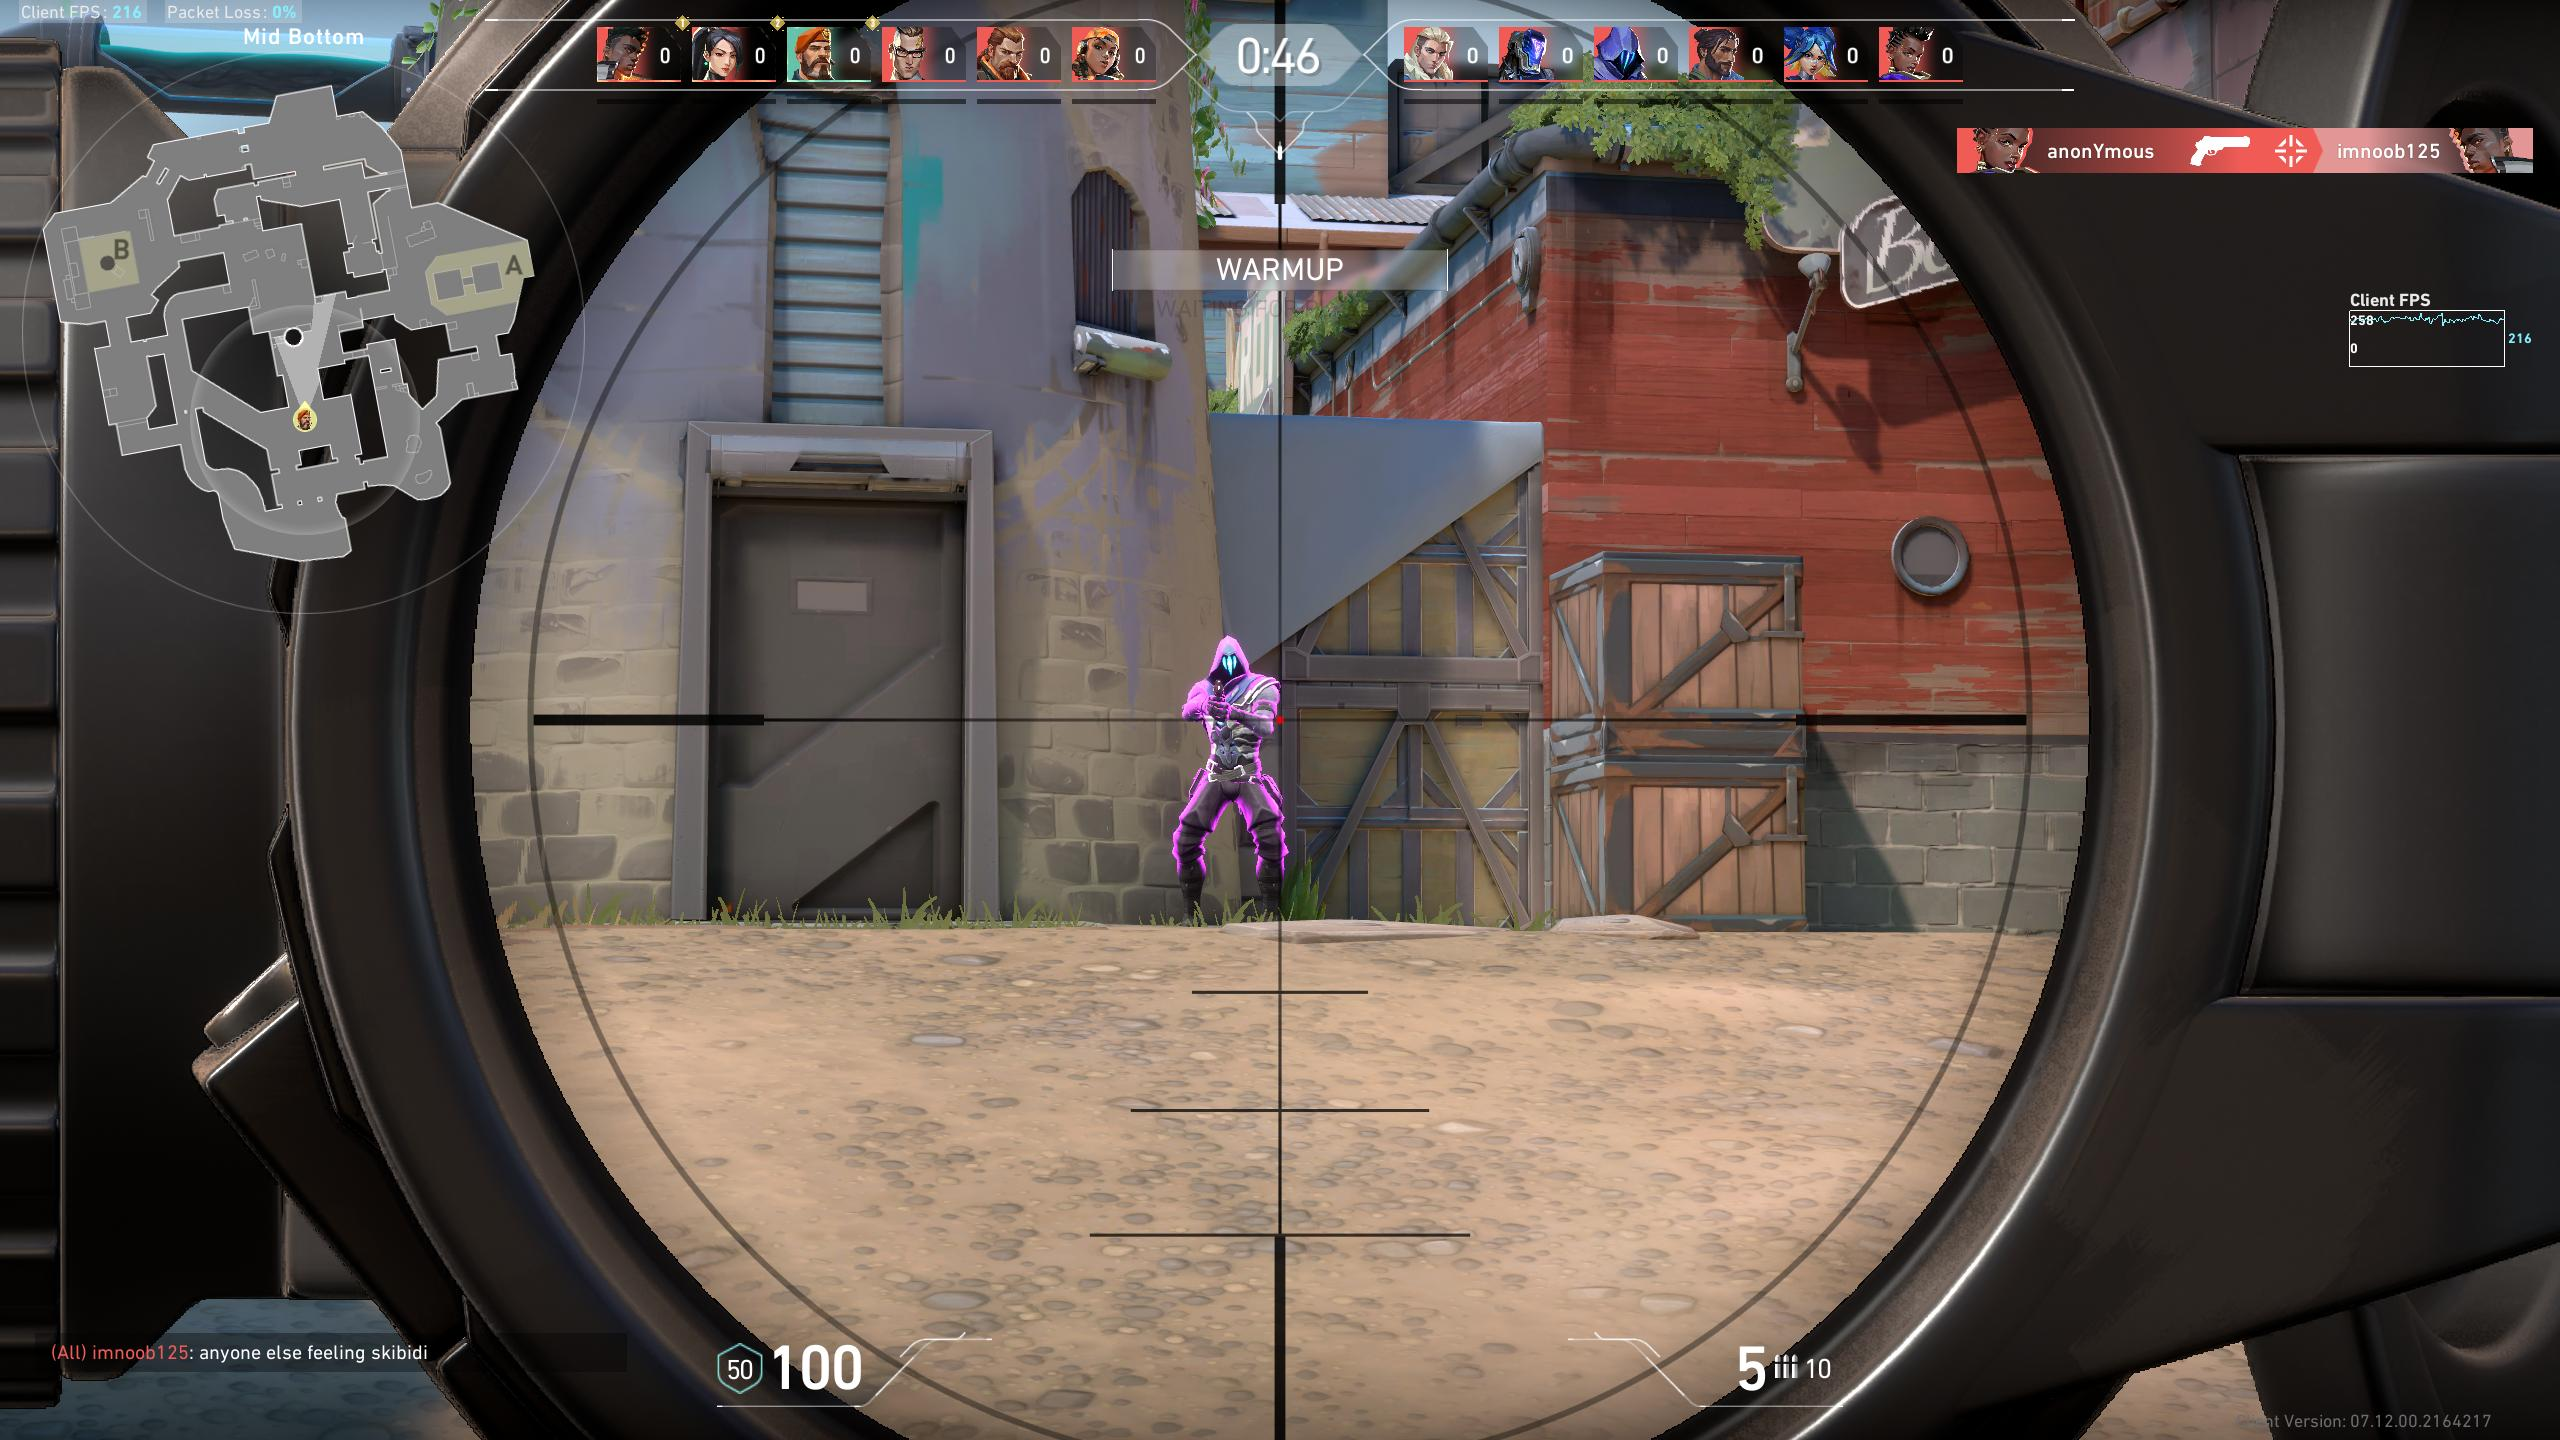enemyBody: (1199, 696, 1275, 779)
enemyHead: (1208, 636, 1245, 684)
